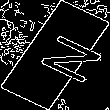N_NW: (16, 25, 94, 85)
